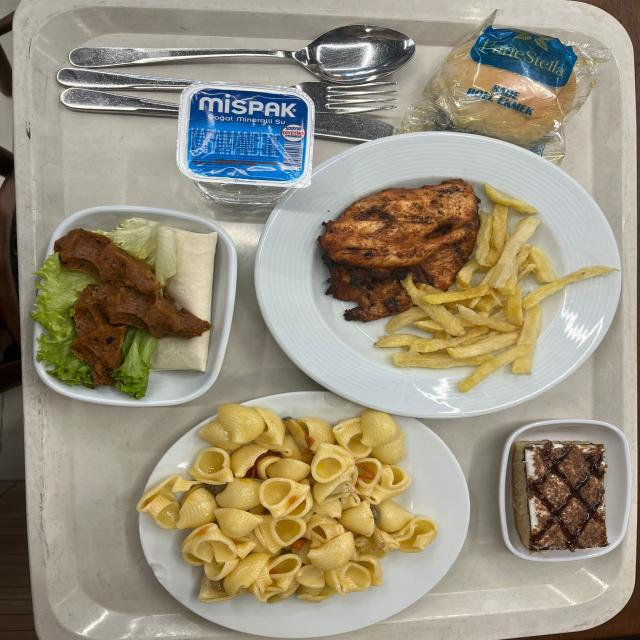ana_yemek: (258, 130, 574, 397)
corba: (136, 402, 440, 606)
yan_yemek: (31, 208, 234, 397), (498, 421, 631, 562)
